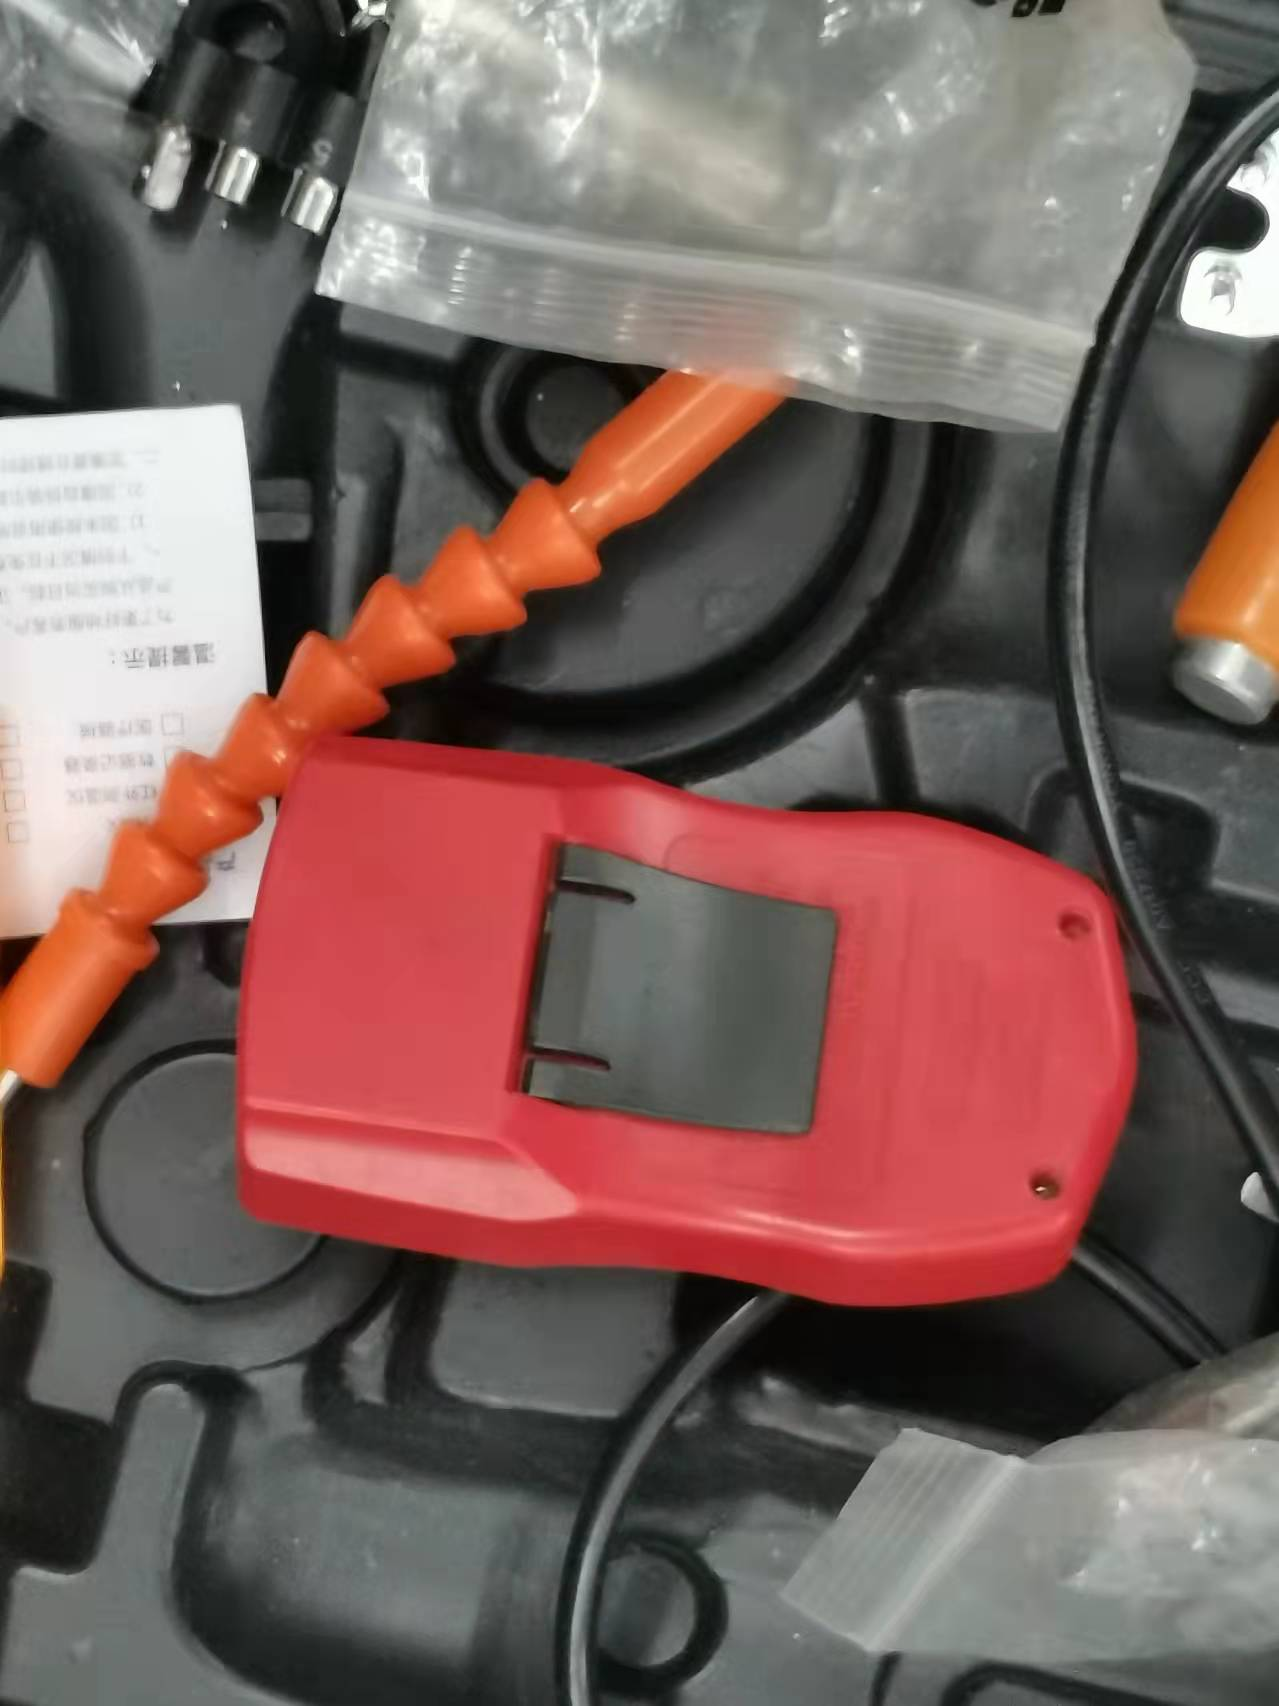Multimeter: (224, 725, 1127, 1302)
Screw holes: (1055, 904, 1096, 956), (1029, 1162, 1067, 1204)
